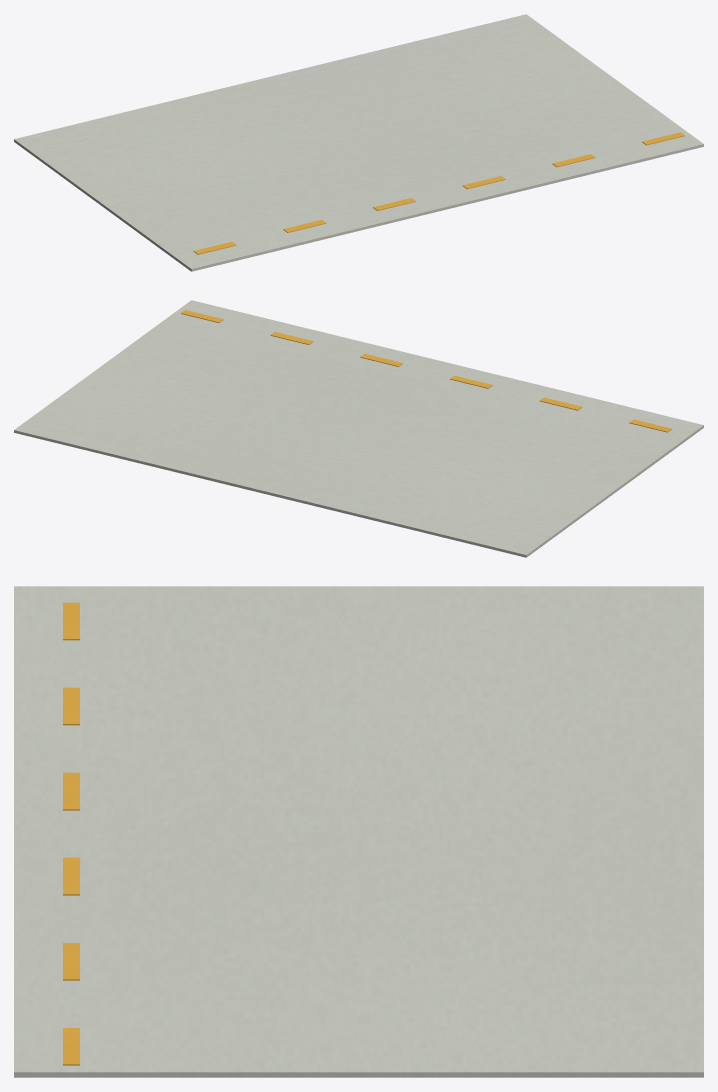
Rendered from 298_L119_GateDriverIsolationReference.obj.
The picture shows the model from 3 angles, top to bottom: view 1: azimuth 30°, elevation 25°; view 2: azimuth 150°, elevation 25°; view 3: azimuth 270°, elevation 25°; orthographic projection. The views are drawn at different scales.
Visible parts, largest first — view 1: 298_L119_GateDriverIsolationReference; view 2: 298_L119_GateDriverIsolationReference; view 3: 298_L119_GateDriverIsolationReference.
Part boxes in pixels (x1,y1,x2,y2): 298_L119_GateDriverIsolationReference: (14, 14, 703, 271); 298_L119_GateDriverIsolationReference: (14, 300, 703, 557); 298_L119_GateDriverIsolationReference: (14, 586, 703, 1077).
Bounding box in the file's own units: 0.04 × 0.000275 × 0.024.
2 materials, 2 textured.
